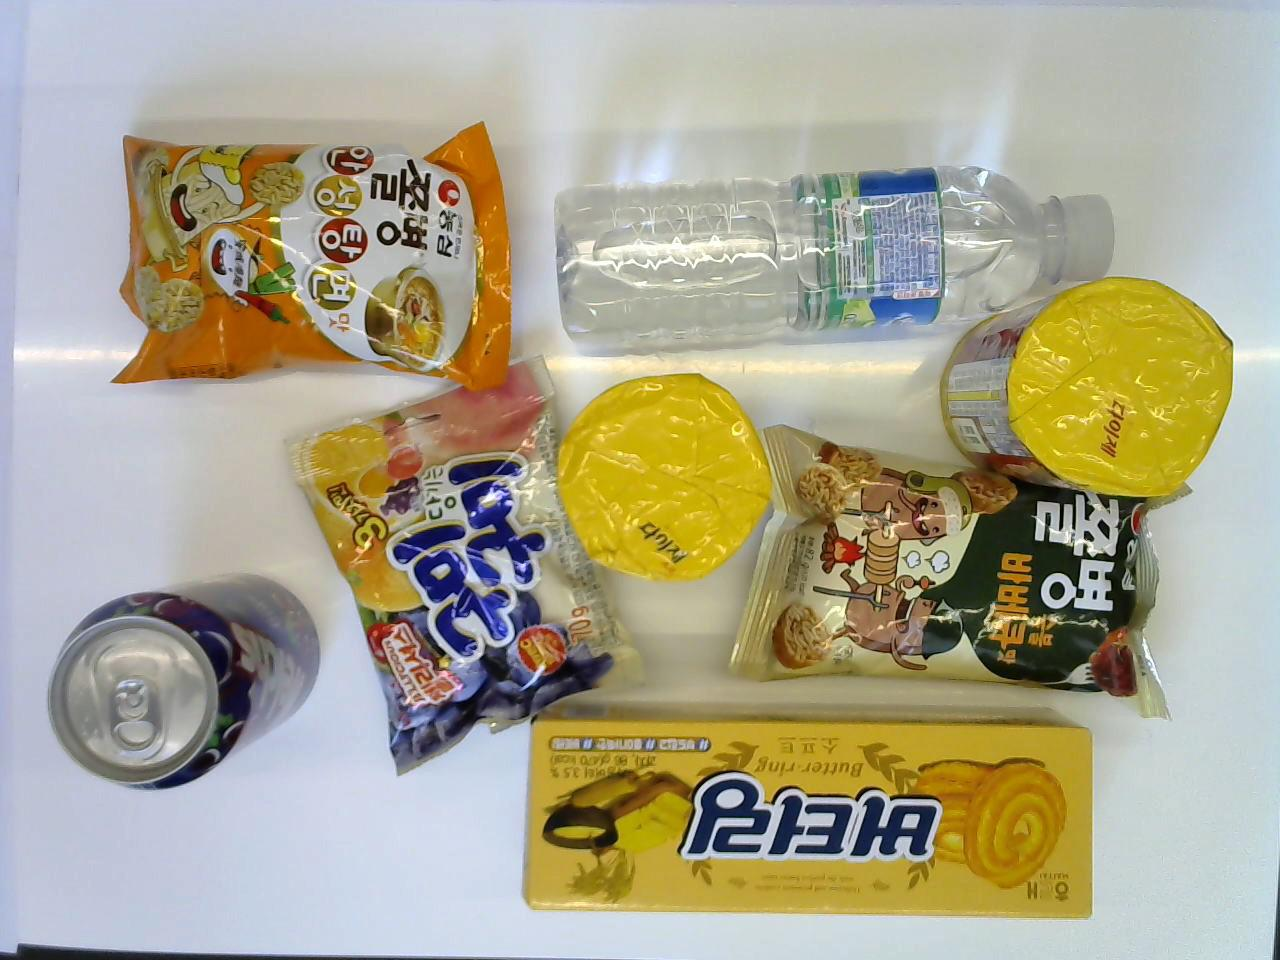buttering: (520, 697, 1095, 920)
diget_choco: (545, 368, 775, 586)
diget_ori: (939, 275, 1236, 502)
gumi_gumi: (281, 341, 645, 778)
jjolbyung_noodle: (104, 120, 507, 397)
jjolbyung_ori: (710, 419, 1181, 721)
samdasu: (550, 161, 1117, 351)
welchs: (46, 572, 317, 793)
